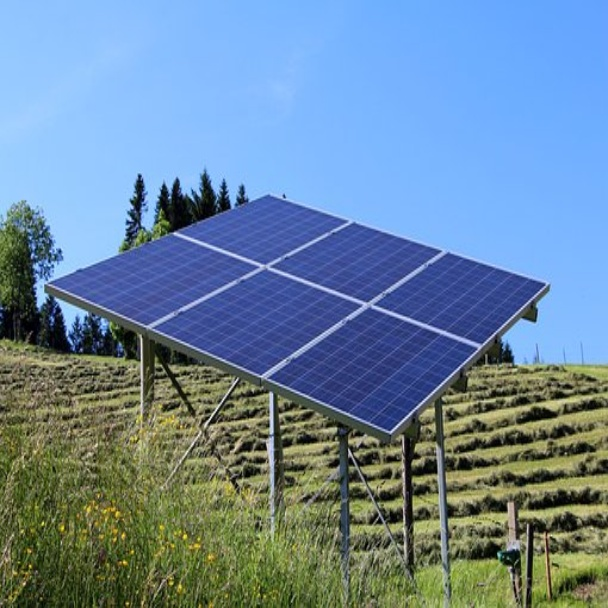solarpanels: (47, 194, 572, 433)
